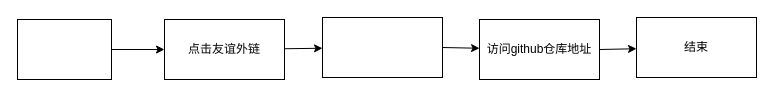
This 774x97 diagram has some shape labels left out. The shapes that lost their labels are listed below. From the top down, each one's centre as x and y in pixels, then its label:
At point (64, 49): "开始".
At point (382, 47): "打开新的网页".
